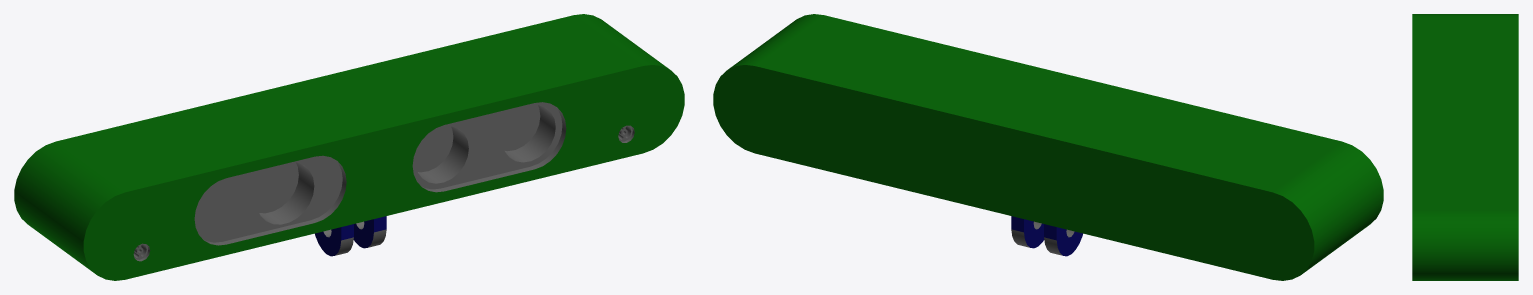
Rendered from agv_xtion_camera.dae.
3 renders of one model, left to right at view 1: azimuth 30°, elevation 25°; view 2: azimuth 150°, elevation 25°; view 3: azimuth 270°, elevation 25°, orthographic. The views are drawn at different scales.
Parts seen in each view (by area): view 1: defaultobject (×2), g Solid1; view 2: defaultobject (×2), g Solid1; view 3: defaultobject.
Part boxes in pixels (<box>): defaultobject (×2): <box>14,14,684,280</box>; g Solid1: <box>315,216,386,256</box>; defaultobject (×2): <box>713,14,1383,280</box>; g Solid1: <box>1011,216,1082,256</box>; defaultobject: <box>1412,14,1518,280</box>.
Bounding box in the file's own units: 180 × 41.5 × 36.
